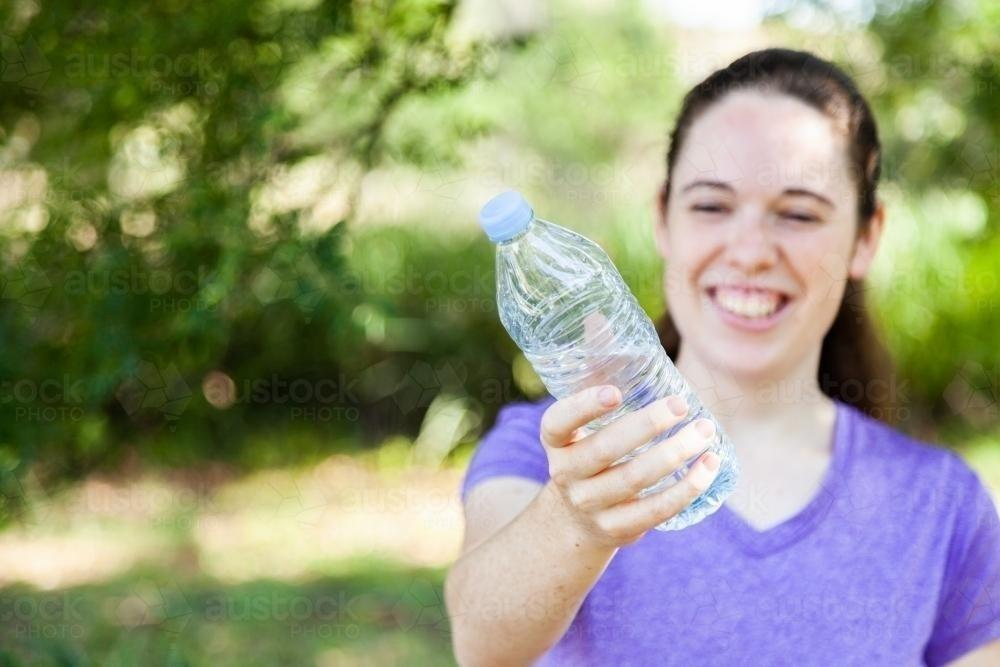bottle-plastic: (472, 185, 734, 536)
